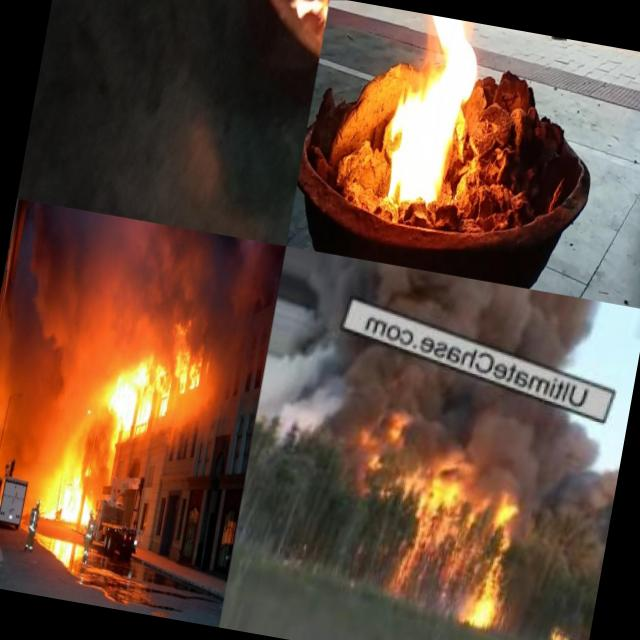fire: (412, 17, 490, 214), (372, 9, 446, 204), (409, 469, 523, 555), (108, 351, 176, 436), (462, 549, 520, 631), (356, 401, 414, 479), (166, 313, 210, 395), (48, 464, 102, 530), (545, 610, 581, 640)
smoke: (12, 207, 127, 446), (404, 388, 615, 500), (252, 332, 375, 458), (198, 238, 286, 405), (114, 219, 224, 317), (0, 297, 35, 432), (162, 390, 216, 448)
